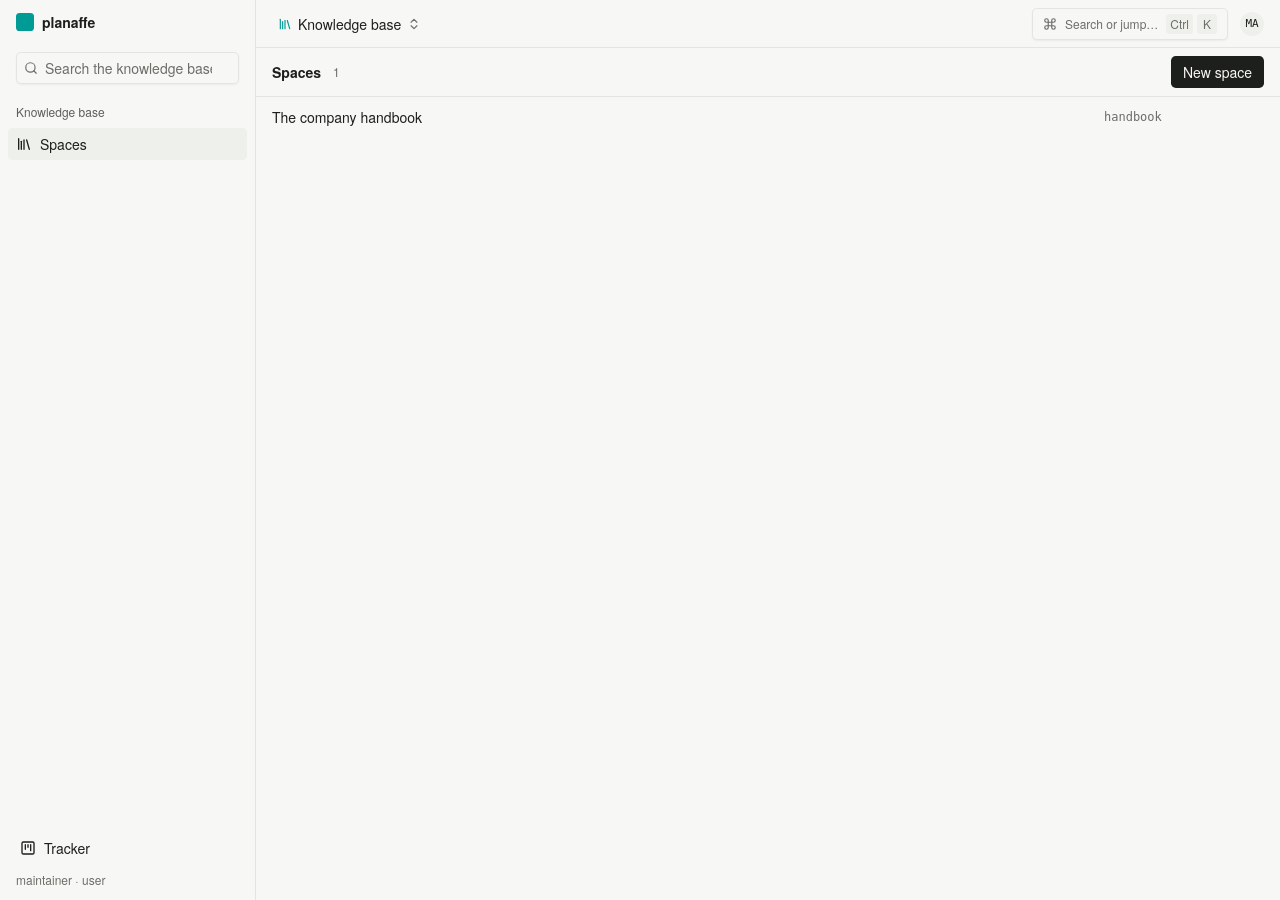
Test: managing a space (ADR 0027) › says what a taken name is, in the instance's words
The image size is (1280, 900).
Click the button "New space": (1217, 72) [1171, 56, 1264, 88]
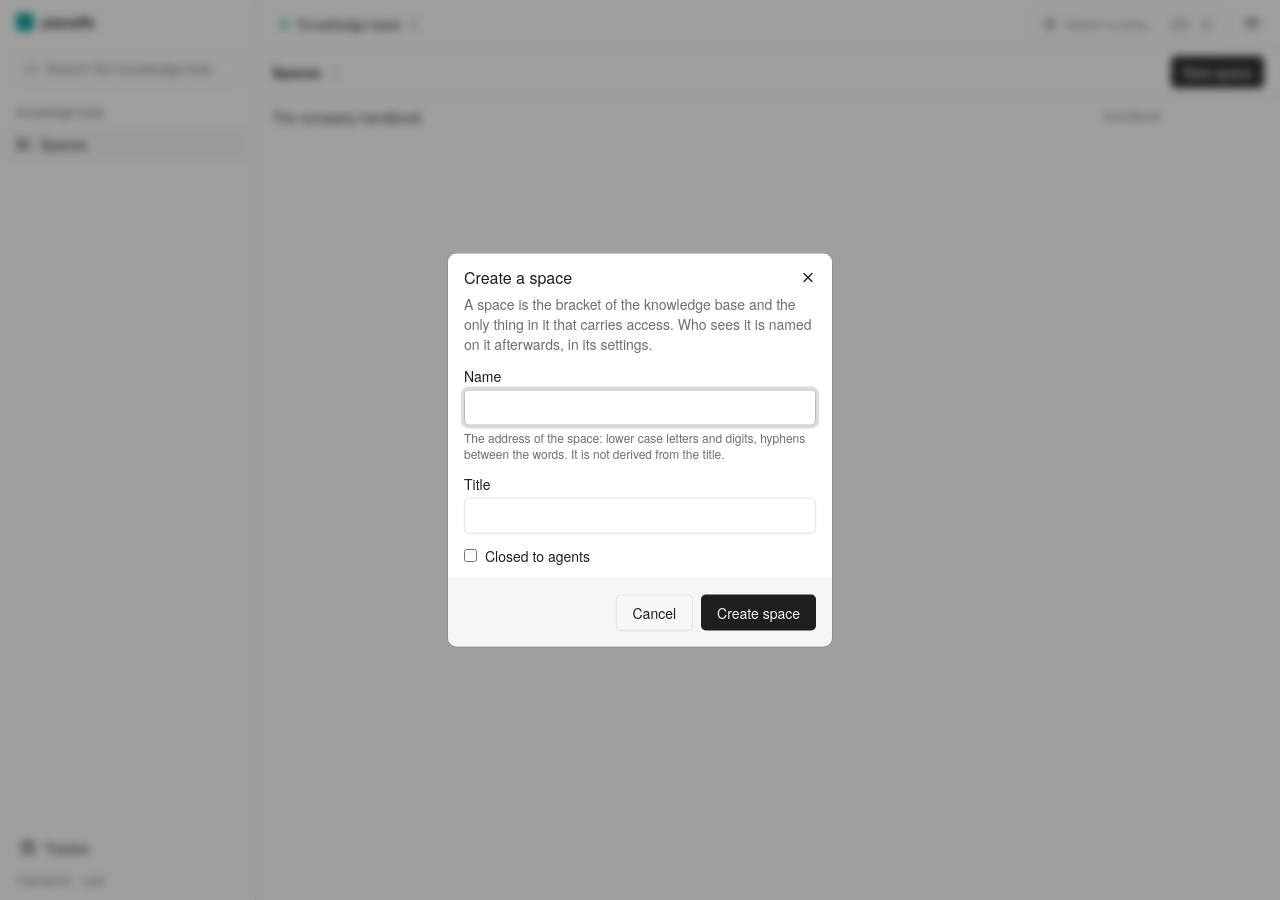
In the field labelled "Name": (640, 408) [464, 390, 816, 426], type "handbook"
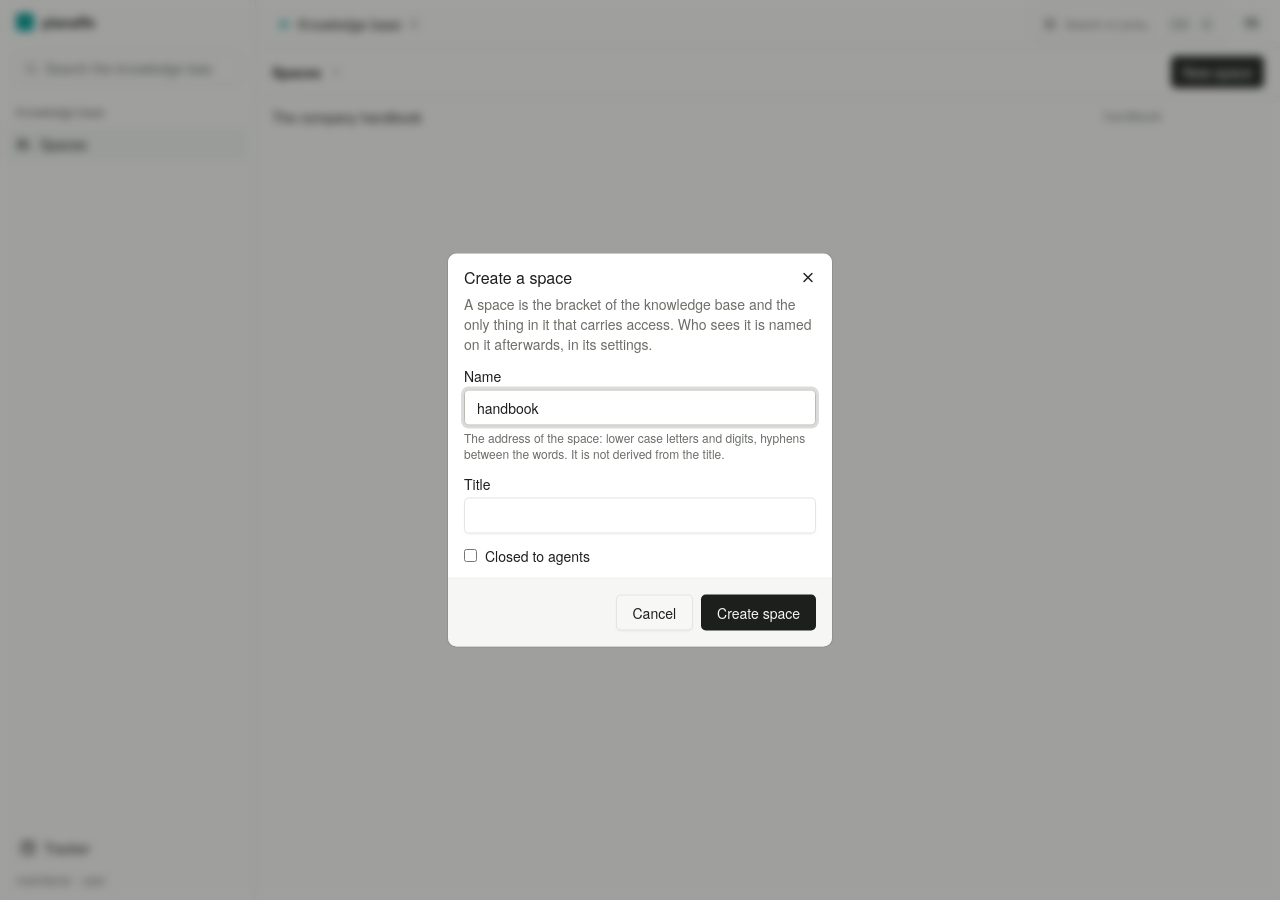
In the field labelled "Title": (640, 516) [464, 498, 816, 534], type "The handbook"
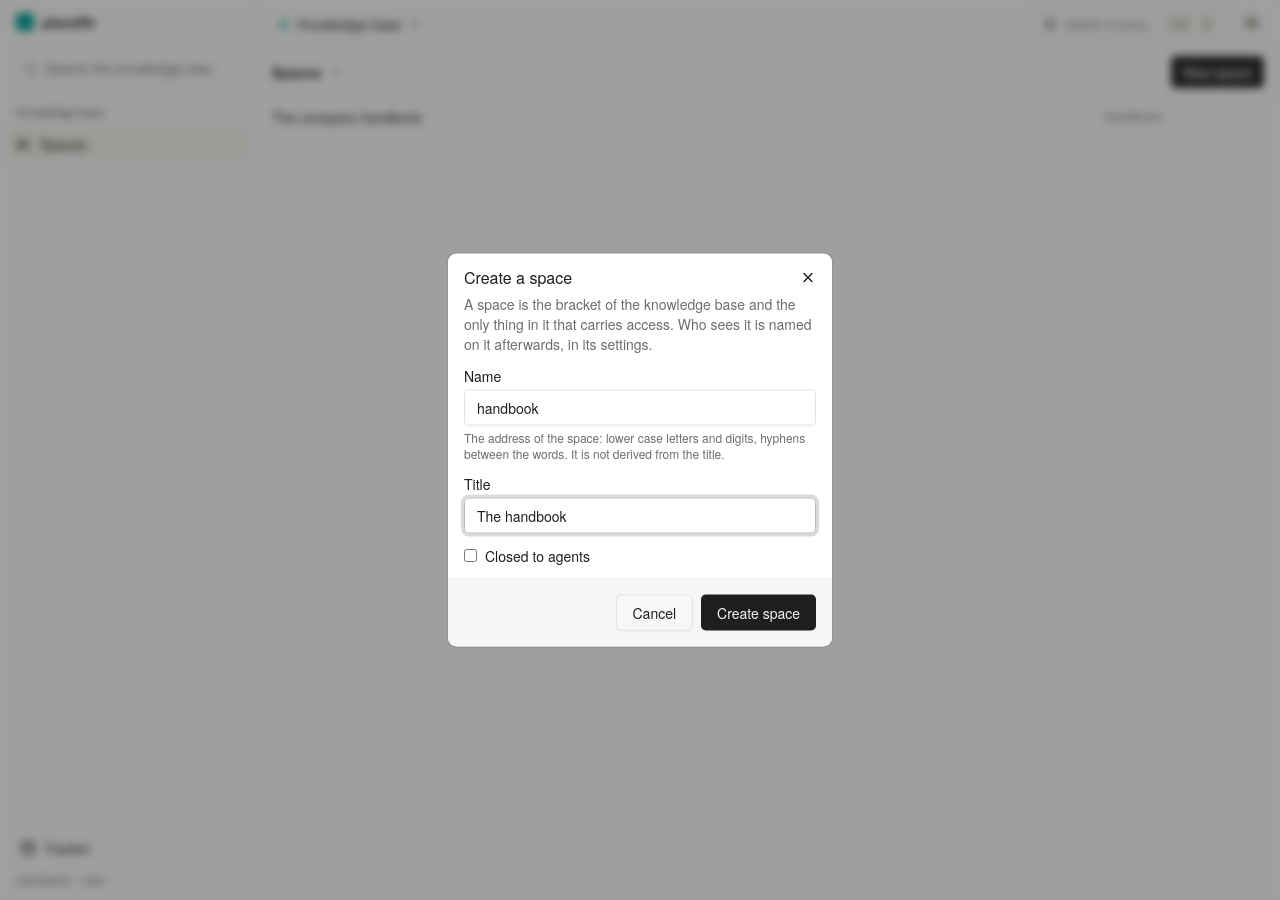
Click the button "Create space": (759, 612) [701, 594, 816, 630]
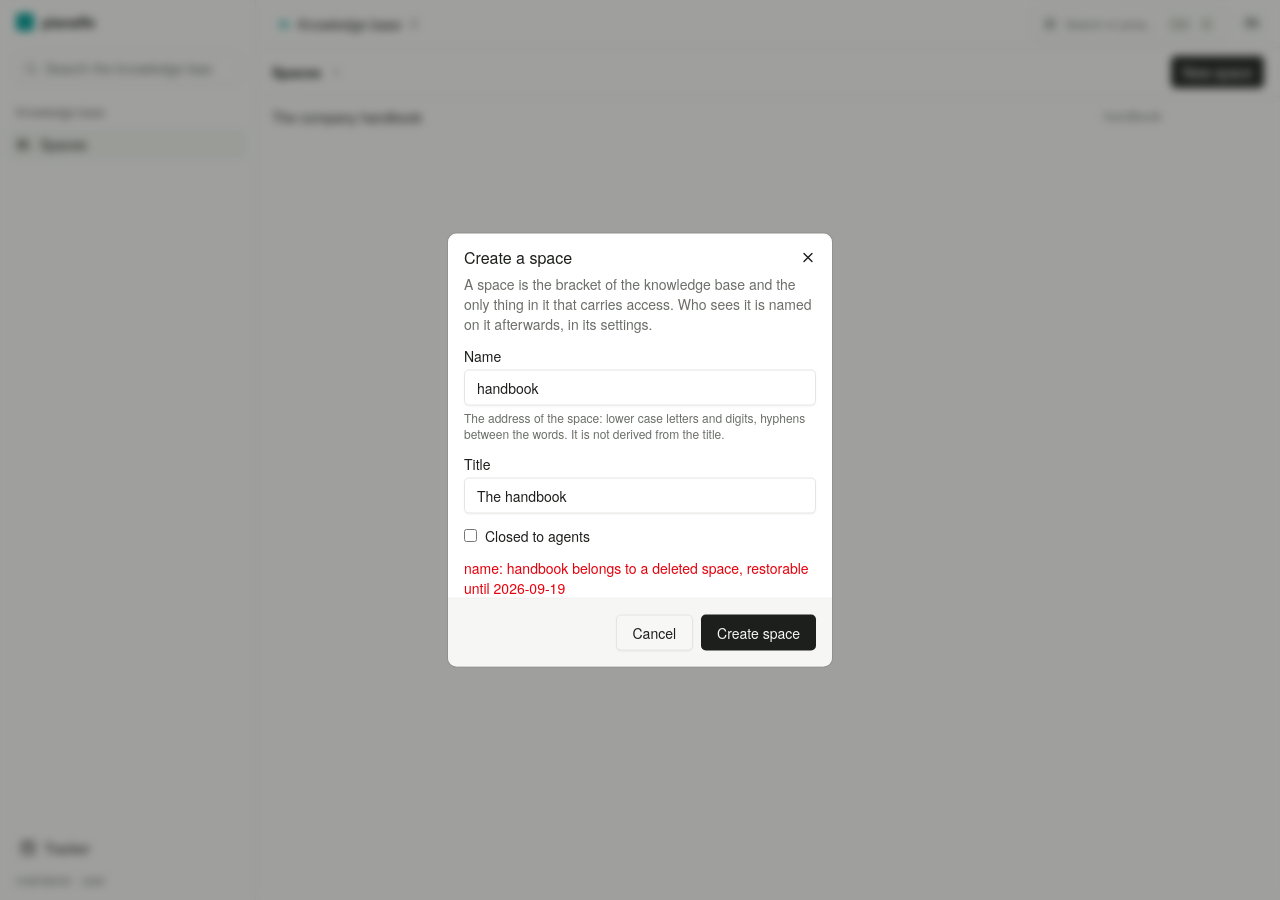
Expected: the message shows "belongs to a deleted space", [464, 558, 809, 598]
